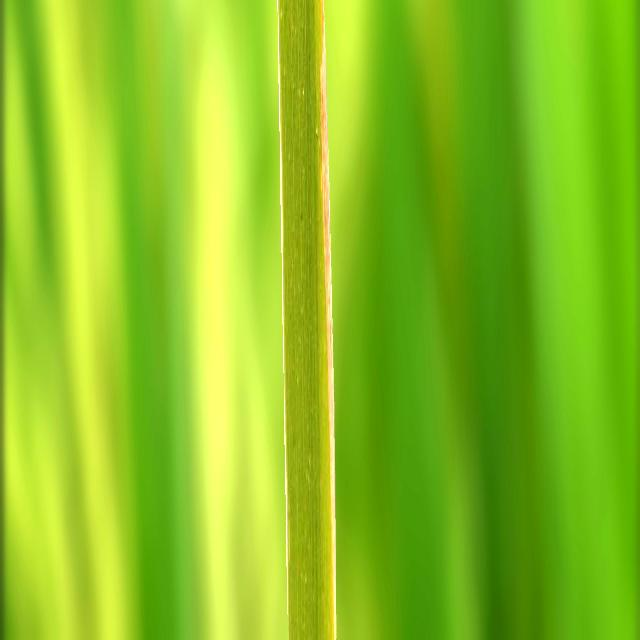BLS: (320, 0, 336, 638)
